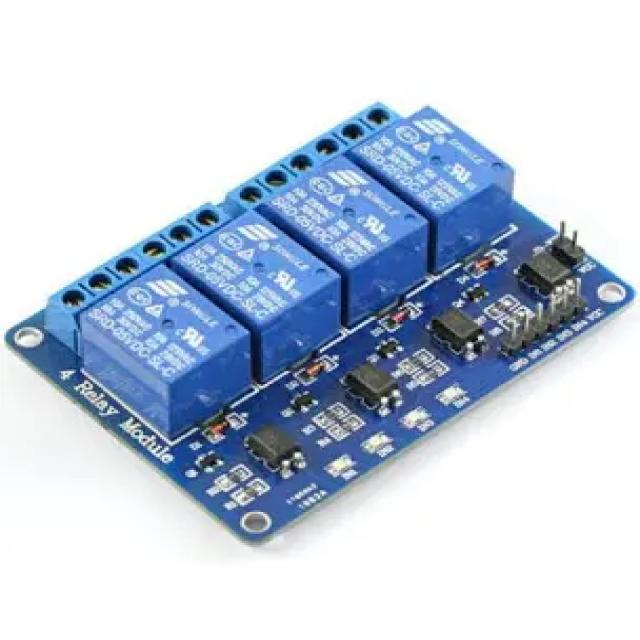Relay: (8, 102, 636, 549)
